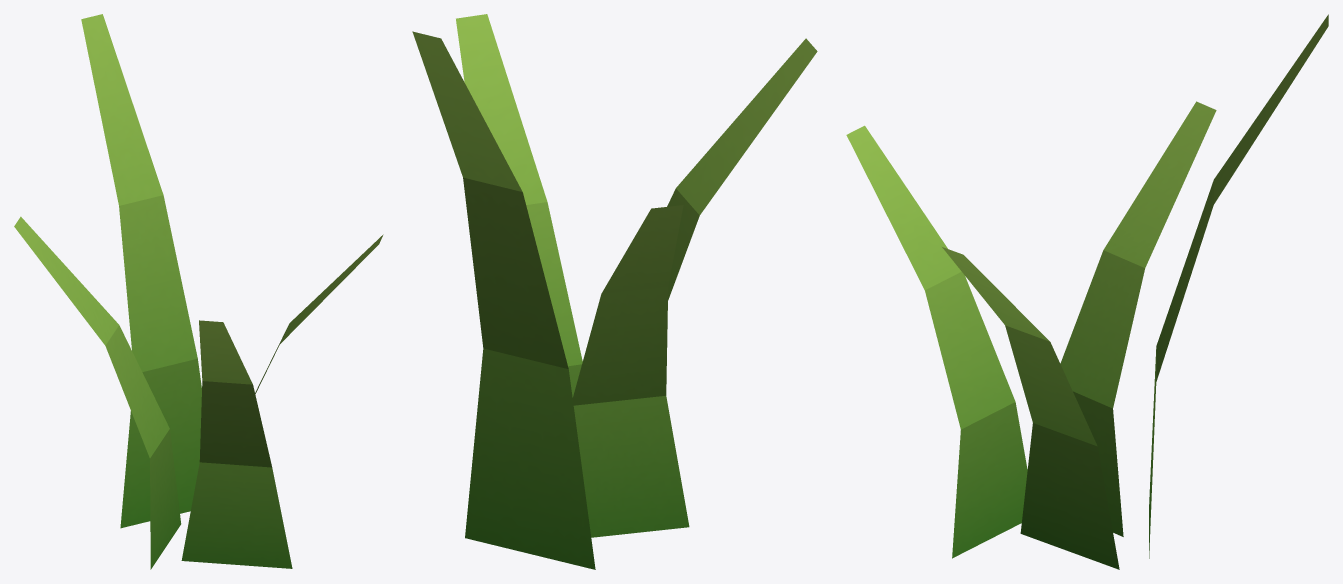
File: yerba3.fbx
The picture shows the model from 3 angles, left to right: view 1: azimuth 30°, elevation 25°; view 2: azimuth 150°, elevation 25°; view 3: azimuth 270°, elevation 25°; orthographic projection. The views are drawn at different scales.
Parts seen in each view (by area): view 1: yerba3; view 2: yerba3; view 3: yerba3.
Part boxes in pixels (x1=…): yerba3: x1=14, y1=14, x2=383, y2=569; yerba3: x1=412, y1=14, x2=817, y2=569; yerba3: x1=846, y1=14, x2=1328, y2=569.
Size of the model in its own units: 22.01 by 34.57 by 29.26.
Materials: 1 (1 with a texture image).
